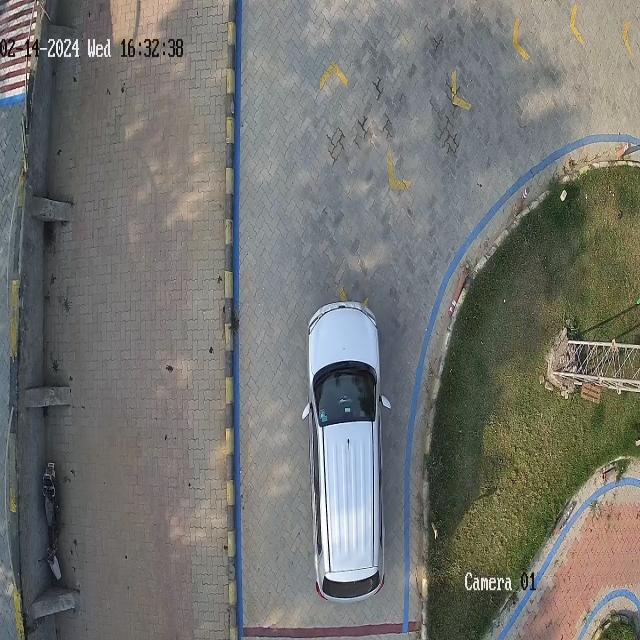car: (308, 304, 382, 600)
